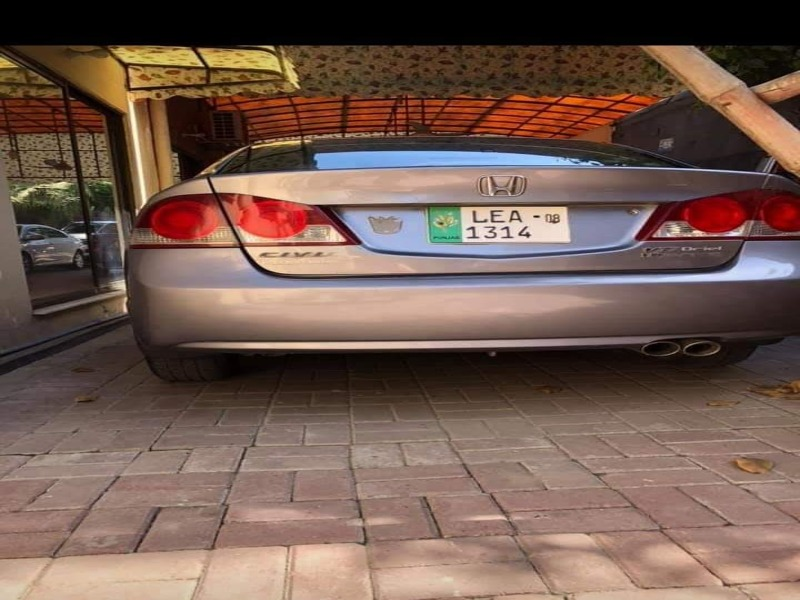License Plate: (423, 200, 575, 249)
